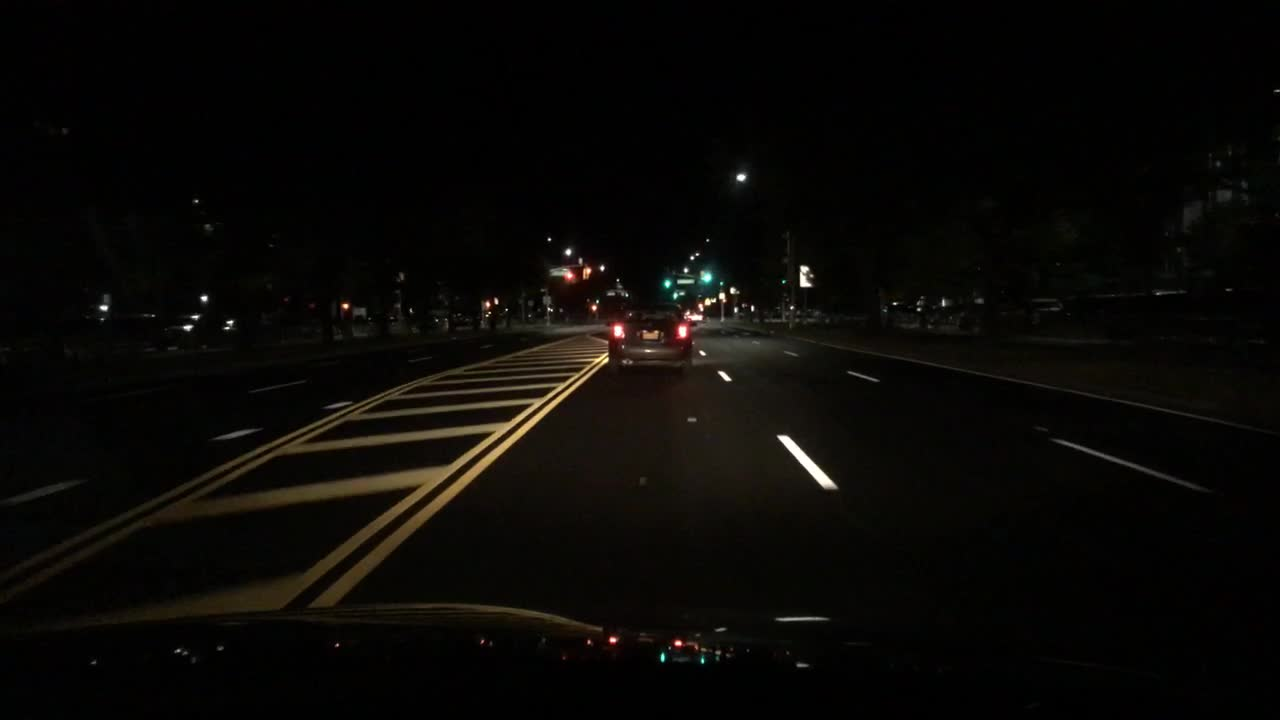car: (605, 298, 696, 378), (65, 292, 118, 345), (169, 312, 234, 347), (114, 308, 166, 345), (305, 315, 342, 340), (1027, 299, 1062, 321), (923, 302, 974, 314), (453, 307, 476, 328), (422, 307, 445, 328), (885, 299, 916, 314), (685, 305, 708, 324), (918, 345, 926, 346)
traffic light: (700, 267, 712, 284), (662, 271, 673, 289), (582, 264, 590, 281), (590, 299, 599, 312)
traffic sign: (548, 265, 570, 278), (673, 275, 695, 285)
